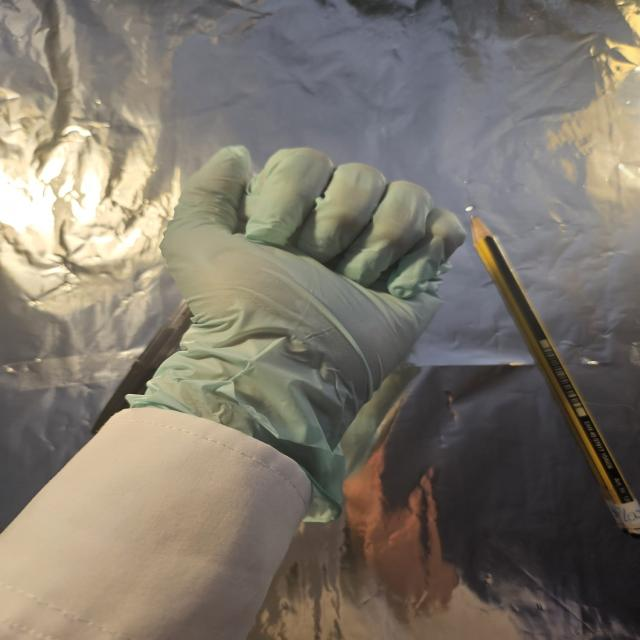gloves_damaged: (127, 145, 470, 523)
